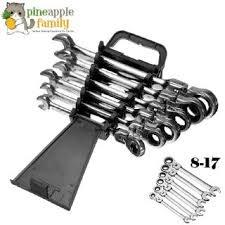wrench: (50, 31, 218, 119), (52, 48, 206, 125), (38, 67, 180, 144), (51, 59, 191, 132), (38, 81, 166, 148), (35, 93, 146, 158), (162, 155, 221, 197), (155, 177, 206, 217), (159, 162, 212, 200), (157, 170, 207, 207), (152, 184, 198, 220), (148, 190, 191, 223)
